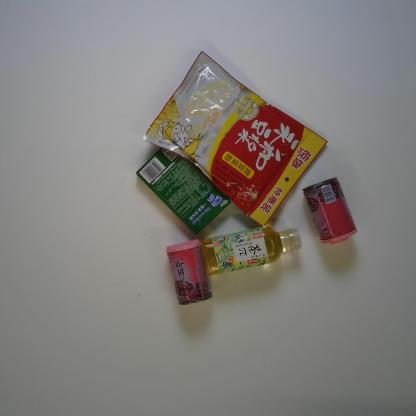Canned Food: (302, 177, 358, 246), (166, 238, 212, 305)
Dessert: (135, 144, 232, 236)
Drink: (200, 226, 304, 276)
Instant Drink: (141, 50, 328, 227)
